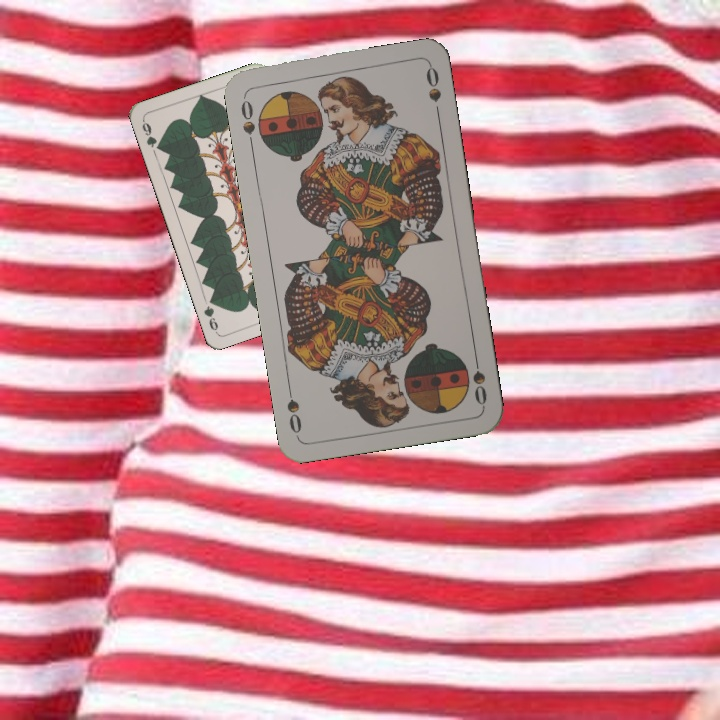G9: (138, 116, 164, 153)
SO: (236, 92, 266, 151), (468, 349, 490, 408)
